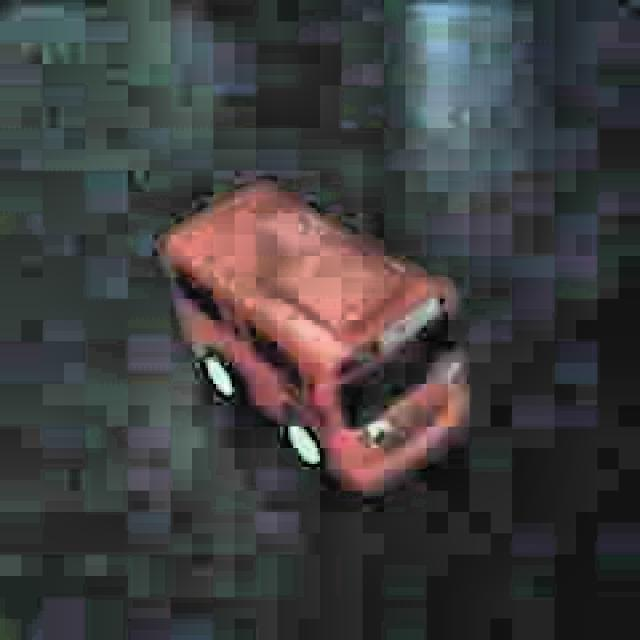bus: (158, 171, 478, 518)
